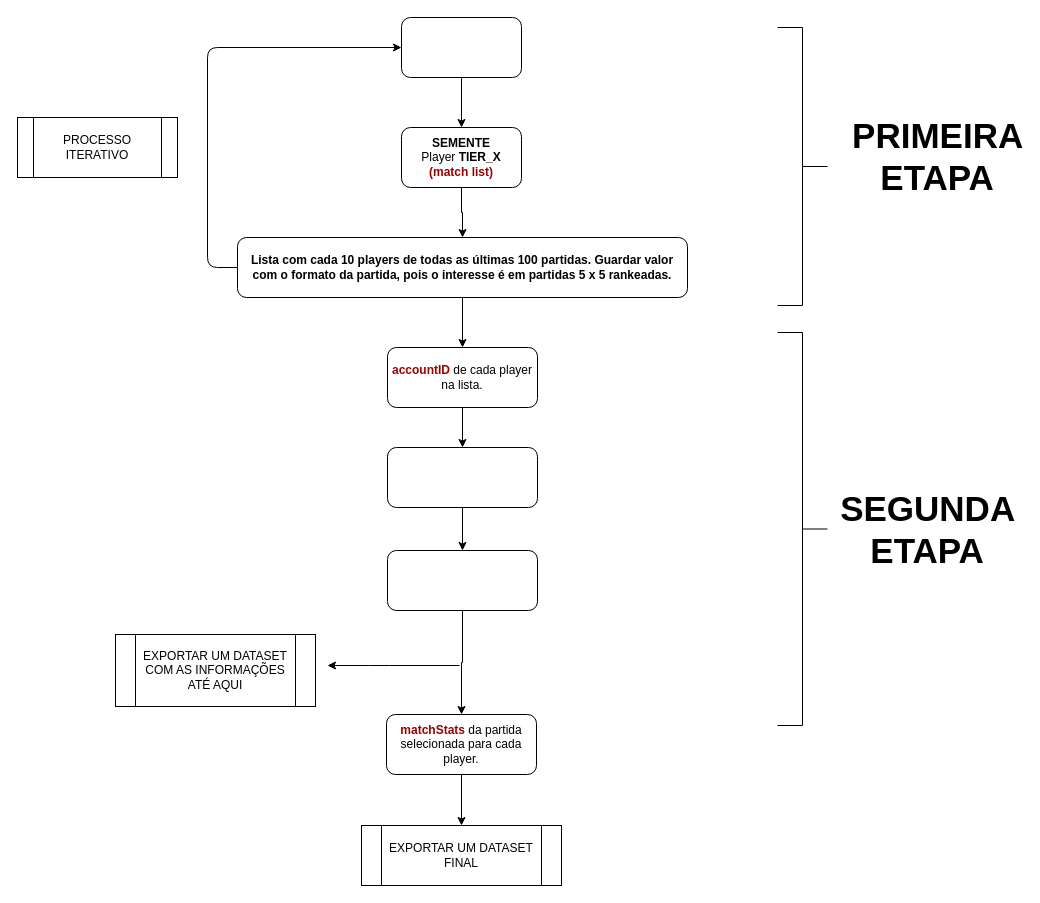
The diagram is 1040 pixels wide and 903 high, and some of its shapes have lost their labels. The centre of each missing label's shape, as x and y in pixels:
"gameID da partida mais recente de cada player." belongs at point 462,580.
"match list de cada player da lista" belongs at point 462,477.
"SEMENTE Player TIER_X (accountID)" belongs at point 461,47.
